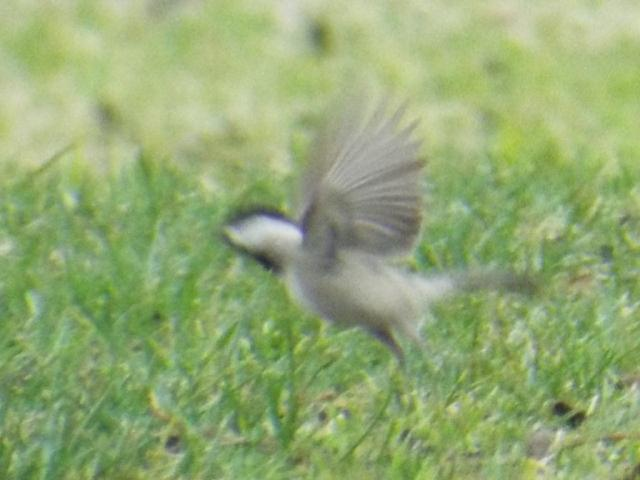Bird: (219, 73, 453, 374)
